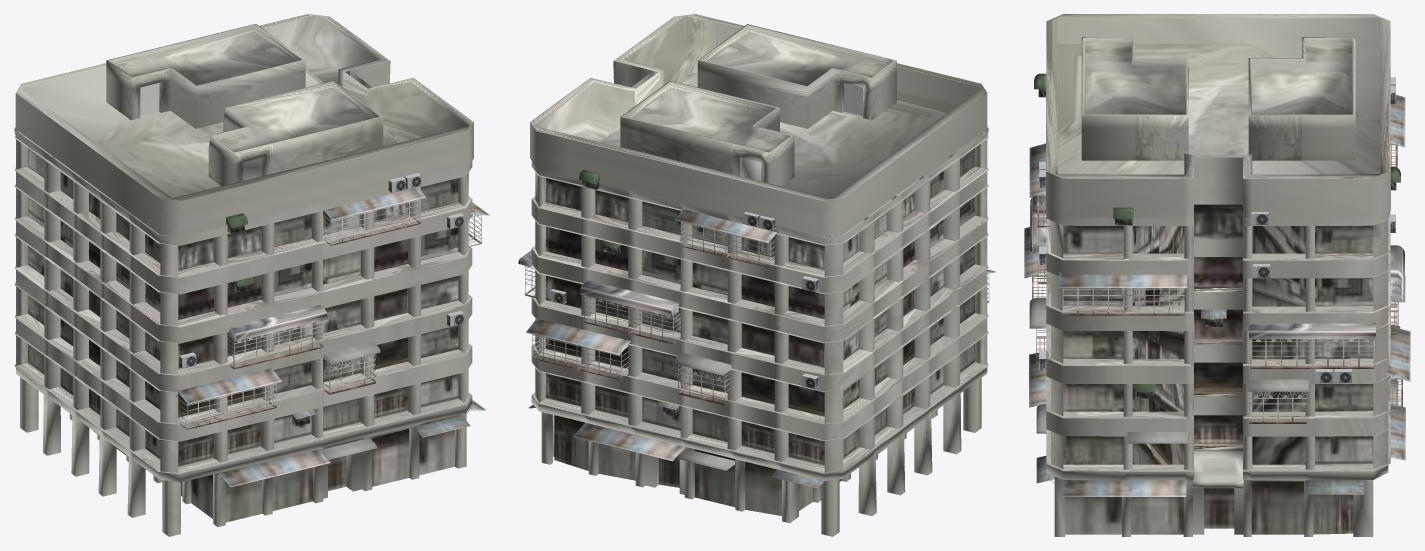
File: building-10.glb
3 views of the same model, side by side, from view 1: azimuth 30°, elevation 25°; view 2: azimuth 150°, elevation 25°; view 3: azimuth 270°, elevation 25° (orthographic). The views are drawn at different scales.
Visible parts, largest first — view 1: apartment_02_fine, polySurface3488, polySurface3490, polySurface3489, pPlane201_2, group26_2, pPlane197_2, pPlane200_2, pCube116_2, pPlane199_2, pCube121_2; view 2: apartment_02_fine, polySurface3488, polySurface3489, polySurface3490, pPlane201, group26, pPlane197, pPlane200, pCube116, pCube121; view 3: apartment_02_fine, polySurface3488, polySurface3489, polySurface3490, group26_3, pPlane197_3, pPlane200_3, pCube116_3, pPlane201, group26, group26_2, pPlane197_2 (+7 smaller).
Part boxes in pixels (box(x1,y1,x2,y2)): apartment_02_fine: box(14, 127, 472, 536); polySurface3488: box(15, 14, 473, 236); polySurface3490: box(106, 24, 305, 128); polySurface3489: box(208, 80, 383, 186); pPlane201_2: box(176, 368, 281, 429); group26_2: box(227, 305, 327, 369); pPlane197_2: box(324, 187, 425, 245); pPlane200_2: box(219, 449, 330, 487); pCube116_2: box(323, 342, 380, 394); pPlane199_2: box(414, 415, 470, 437); pCube121_2: box(320, 438, 376, 459); apartment_02_fine: box(531, 127, 988, 536); polySurface3488: box(530, 14, 987, 236); polySurface3489: box(697, 24, 896, 128); polySurface3490: box(620, 81, 794, 186); pPlane201: box(526, 317, 630, 380); group26: box(580, 280, 680, 344); pPlane197: box(675, 209, 776, 268); pPlane200: box(573, 422, 684, 461); pCube116: box(674, 353, 731, 405); pCube121: box(677, 449, 734, 470); apartment_02_fine: box(1046, 196, 1390, 536); polySurface3488: box(1046, 14, 1390, 217); polySurface3489: box(1081, 37, 1188, 160); polySurface3490: box(1248, 37, 1355, 160); group26_3: box(1249, 323, 1375, 368); pPlane197_3: box(1059, 271, 1187, 315); pPlane200_3: box(1062, 480, 1186, 496); pCube116_3: box(1247, 379, 1308, 423); pPlane201: box(1385, 326, 1410, 410); group26: box(1390, 245, 1404, 334); group26_2: box(1030, 196, 1046, 283); pPlane197_2: box(1029, 143, 1050, 227).
Size of the model in its own units: 169 by 175 by 160.
Materials: 53 (53 with a texture image).
